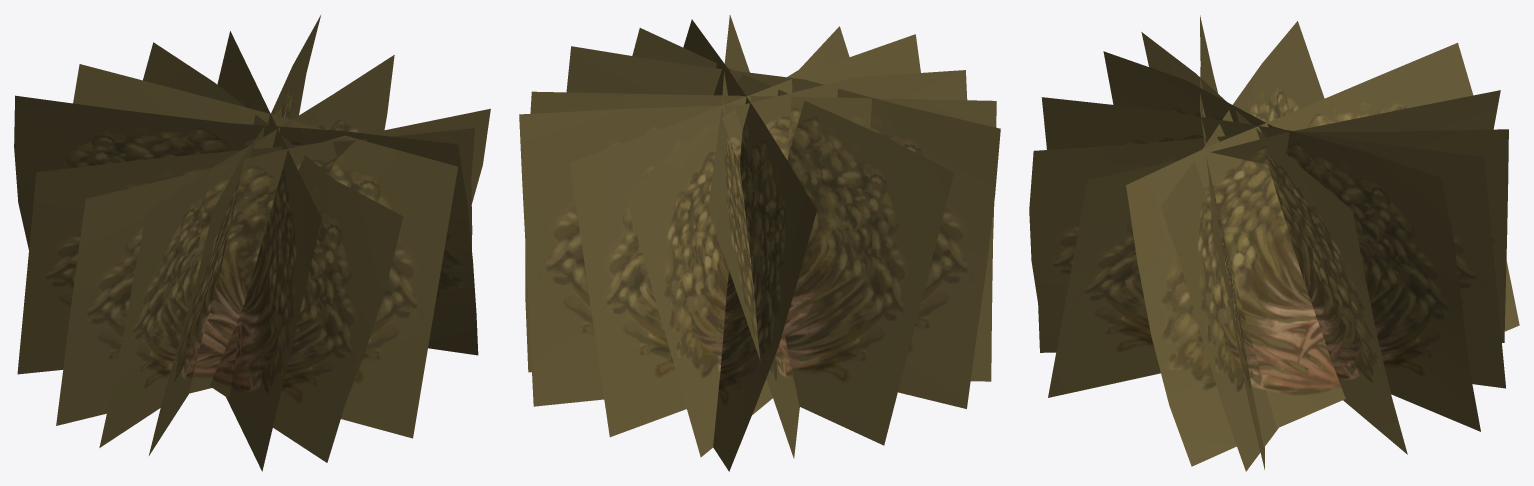
Rendered from Bush.fbx.
3 renders of one model, left to right at view 1: azimuth 30°, elevation 25°; view 2: azimuth 150°, elevation 25°; view 3: azimuth 270°, elevation 25°, orthographic. The views are drawn at different scales.
Parts seen in each view (by area): view 1: Bush1; view 2: Bush1; view 3: Bush1.
Boxes of the visible parts, left/top/right/bottom form: Bush1: left=14, top=14, right=490, bottom=471; Bush1: left=519, top=15, right=1000, bottom=471; Bush1: left=1029, top=15, right=1519, bottom=471.
Bounding box in the file's own units: 106 × 65.15 × 105.
